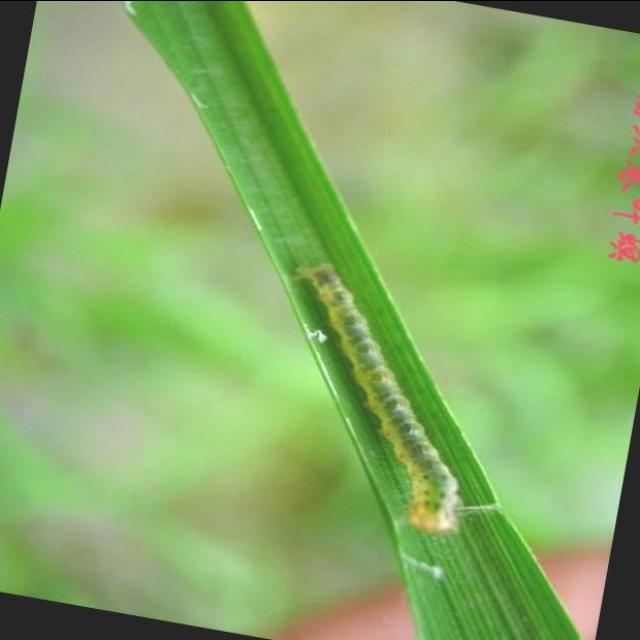leaf folder: (295, 262, 462, 532)
